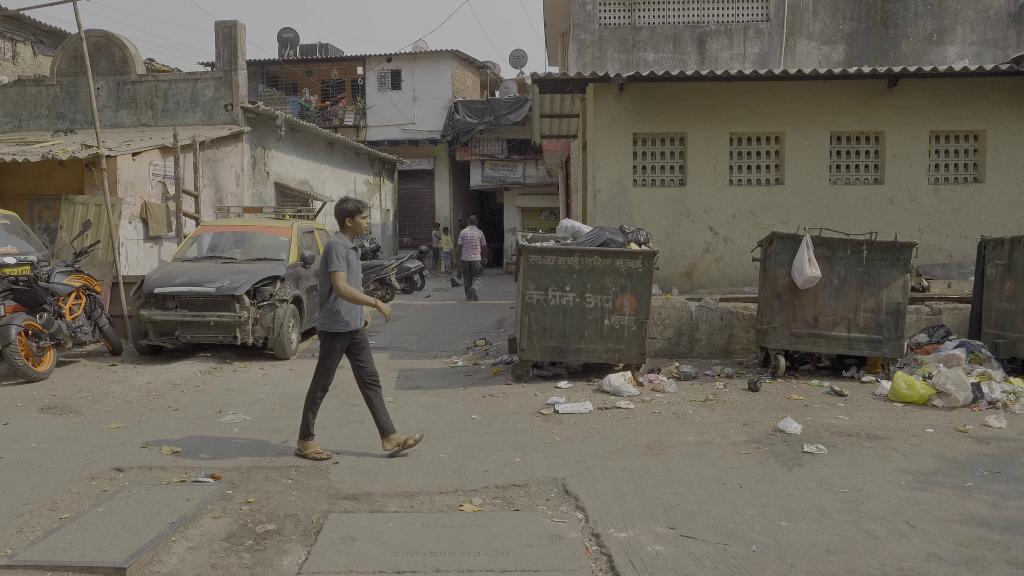dustbin: (757, 226, 918, 374), (515, 226, 660, 382)
garbage: (571, 220, 653, 249), (887, 368, 940, 409), (789, 230, 823, 293), (600, 367, 640, 396), (553, 399, 595, 417), (776, 414, 806, 437), (983, 409, 1013, 432), (743, 376, 765, 394), (545, 392, 566, 407)
